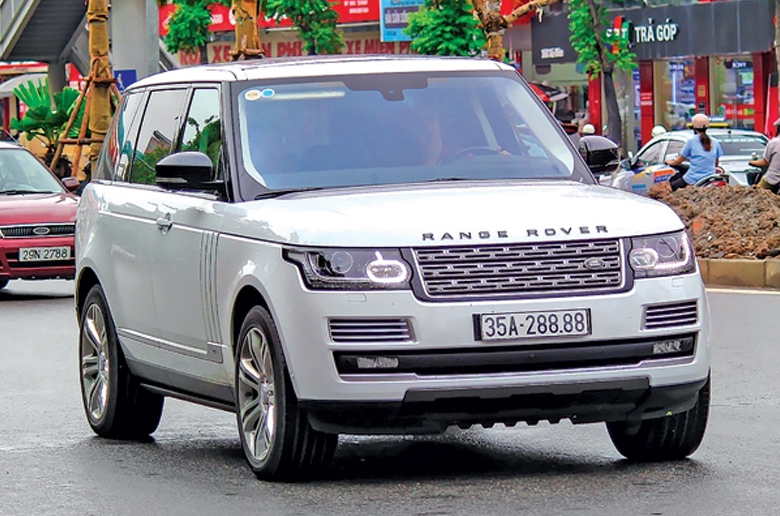number_plate: (478, 311, 592, 342), (17, 247, 72, 262)
